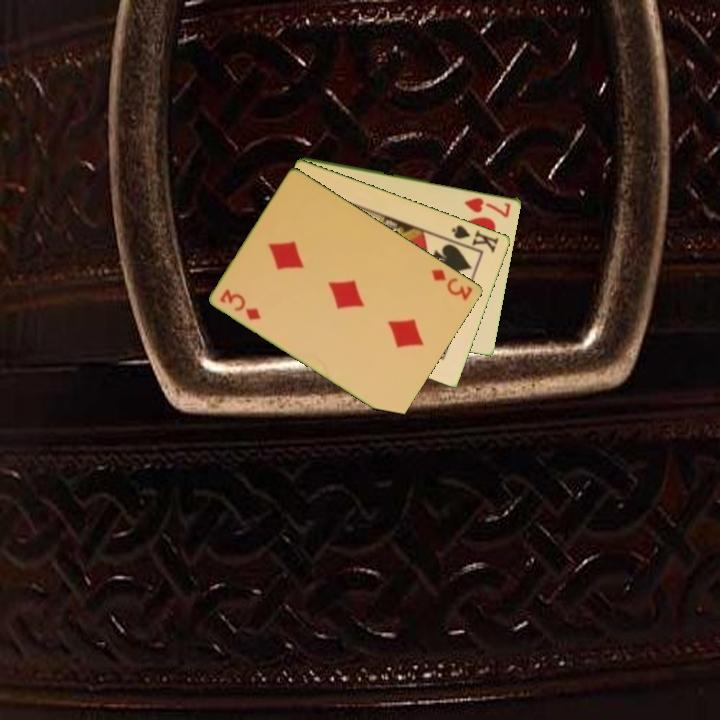3d: (428, 265, 476, 303), (216, 285, 264, 323)
7h: (461, 194, 514, 220)
Ks: (445, 221, 502, 256)
